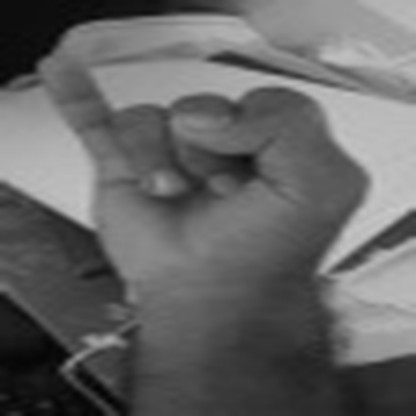i: (34, 44, 382, 280)
